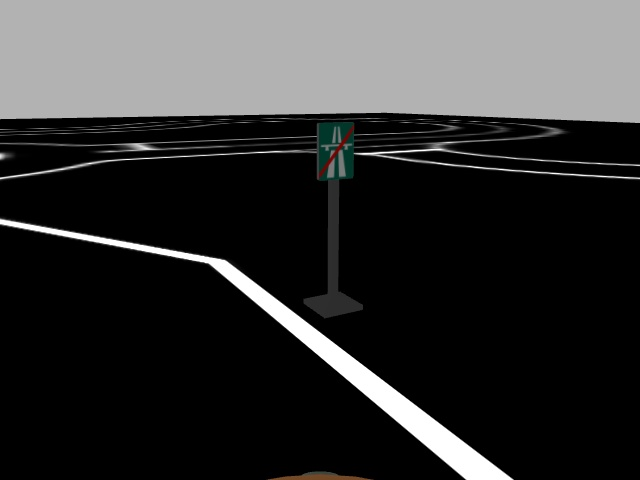leave_highway: (313, 119, 357, 182)
